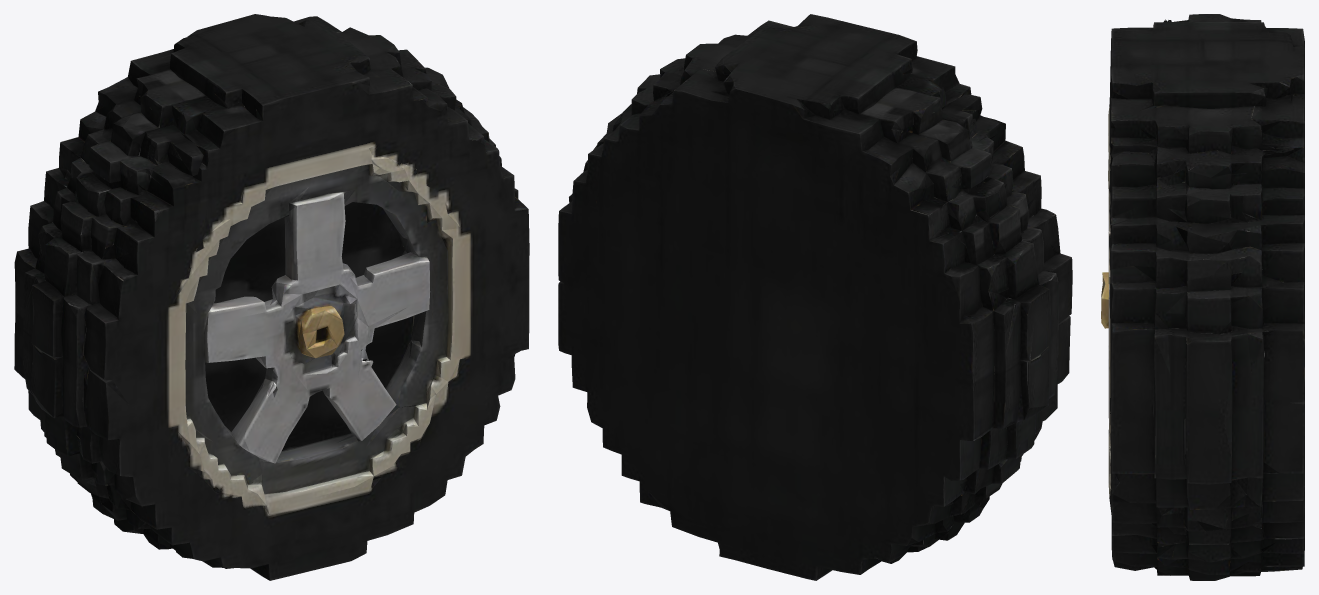
File: wheel-sport.glb
3 renders of one model, left to right at view 1: azimuth 30°, elevation 25°; view 2: azimuth 150°, elevation 25°; view 3: azimuth 270°, elevation 25°, orthographic.
Visible parts, largest first — view 1: Mesh; view 2: Mesh; view 3: Mesh.
Boxes of the visible parts, box(x1,y1,x2,y2) form: Mesh: box(14, 14, 529, 580); Mesh: box(558, 14, 1072, 580); Mesh: box(1101, 14, 1304, 580).
Bounding box in the file's own units: 2 × 2 × 0.76.
Materials: 1 (1 with a texture image).
